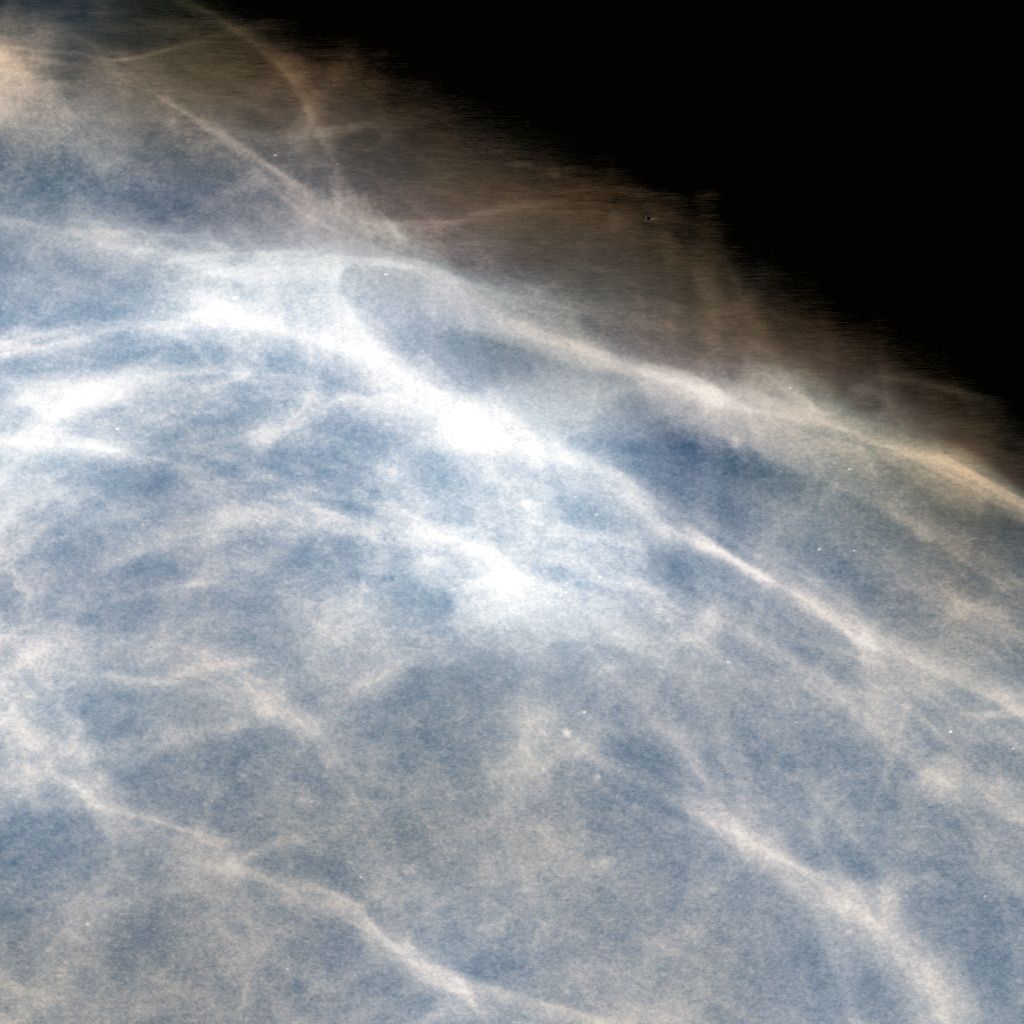tumor: (342, 357, 682, 667)
